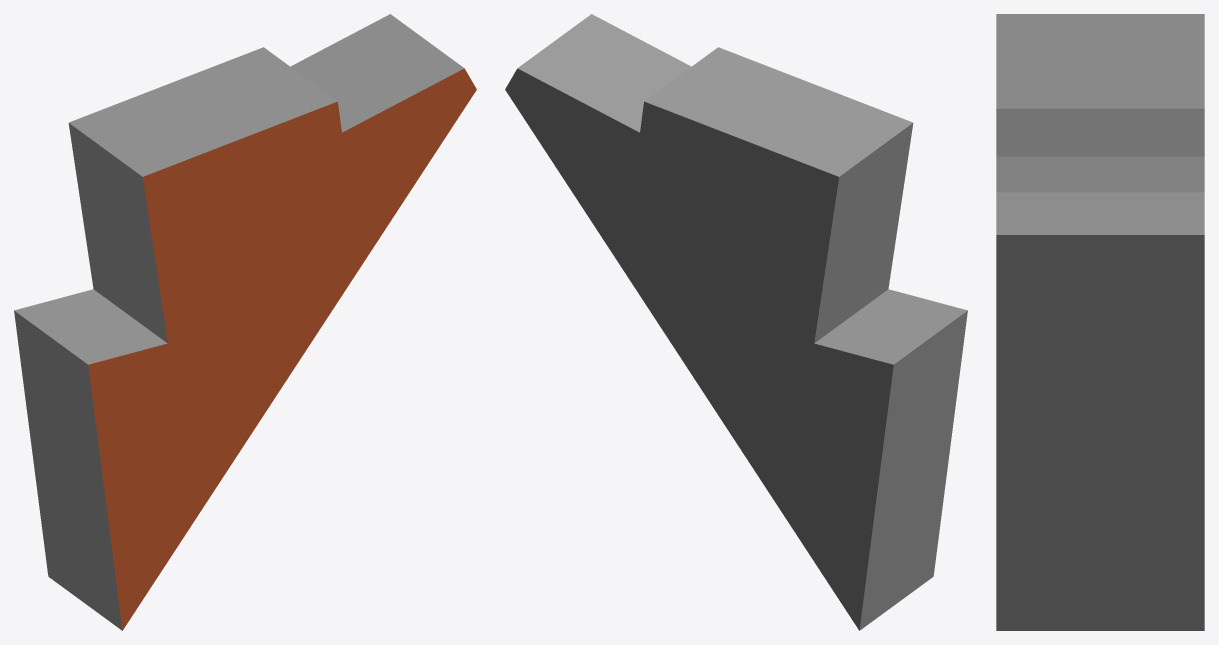
Rendered from construction_5080_assumed_A_Casa_h6m.obj.
3 views of the same model, side by side, from view 1: azimuth 30°, elevation 25°; view 2: azimuth 150°, elevation 25°; view 3: azimuth 270°, elevation 25° (orthographic). The views are drawn at different scales.
Visible parts, largest first — view 1: construction_5080_assumed_A_Casa; view 2: construction_5080_assumed_A_Casa; view 3: construction_5080_assumed_A_Casa.
Part boxes in pixels (box(x1,y1,x2,y2)): construction_5080_assumed_A_Casa: box(14, 14, 476, 630); construction_5080_assumed_A_Casa: box(505, 14, 967, 630); construction_5080_assumed_A_Casa: box(996, 14, 1204, 630).
Bounding box in the file's own units: 18.15 × 21.37 × 6.
